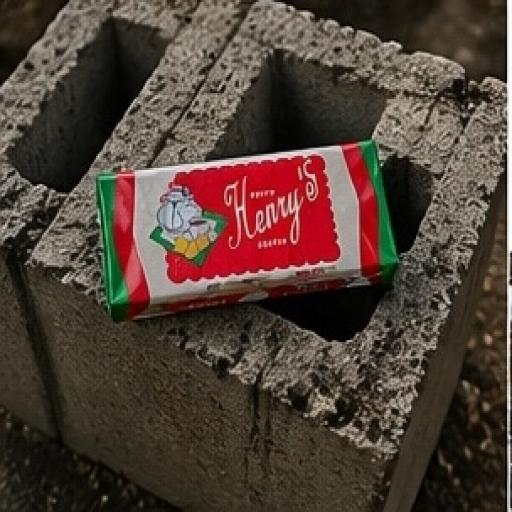golden: (54, 111, 450, 365)
